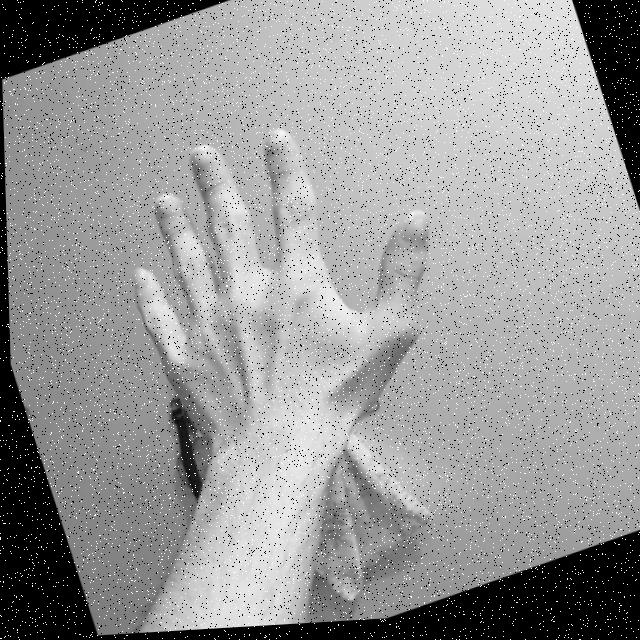hand: (88, 79, 477, 474)
